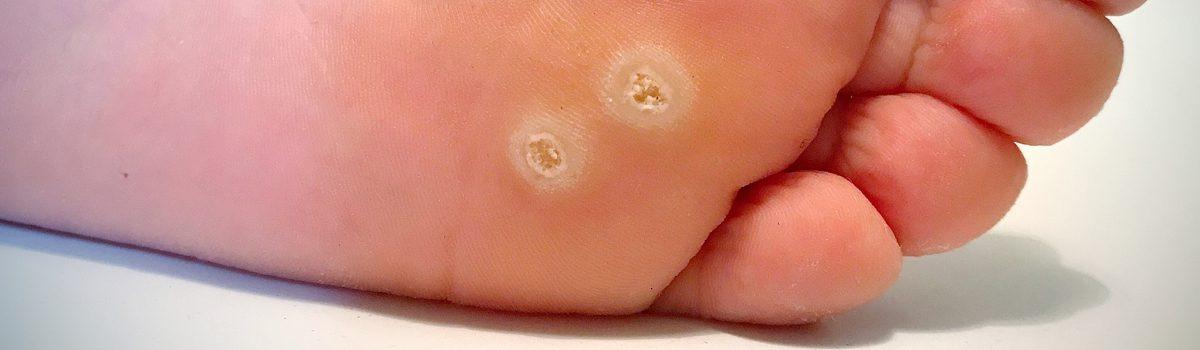Warts: (480, 31, 702, 220)
